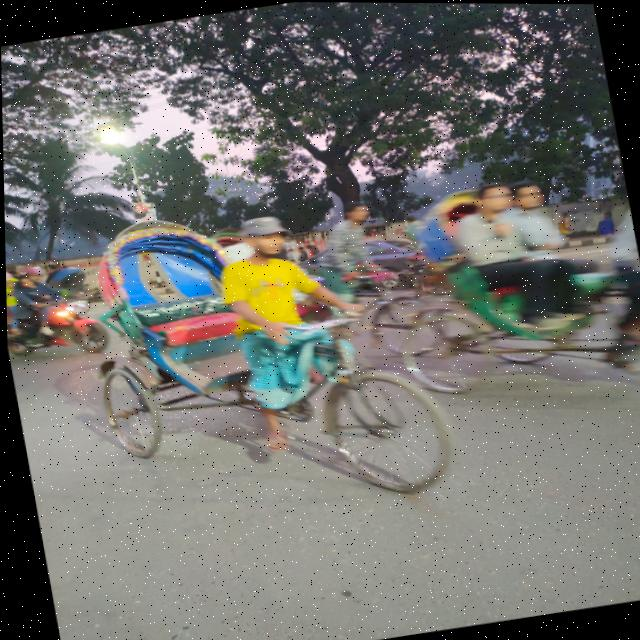rikshaw: (75, 174, 485, 590)
